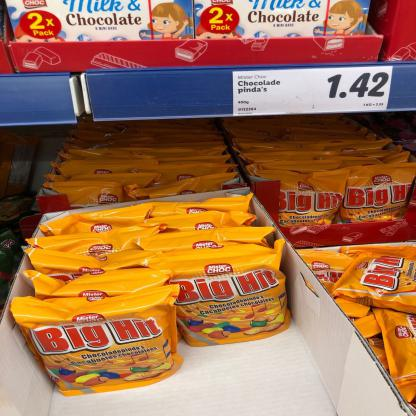prtg: (233, 67, 394, 117)
